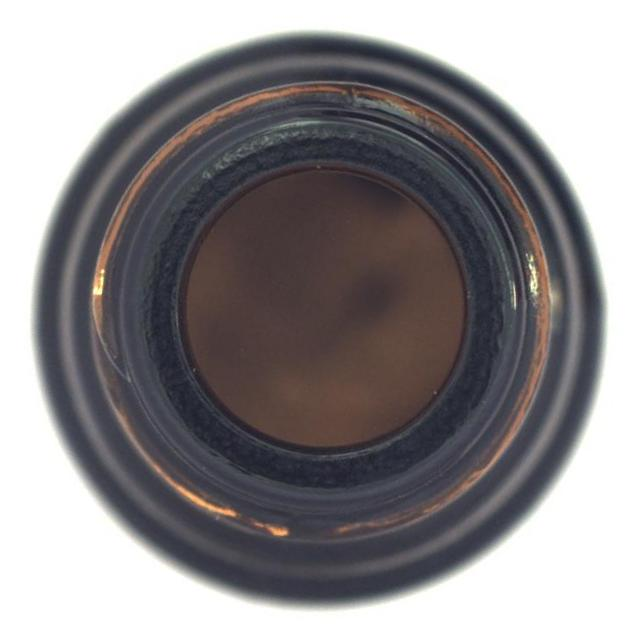bad-contamination: (31, 28, 610, 606)
